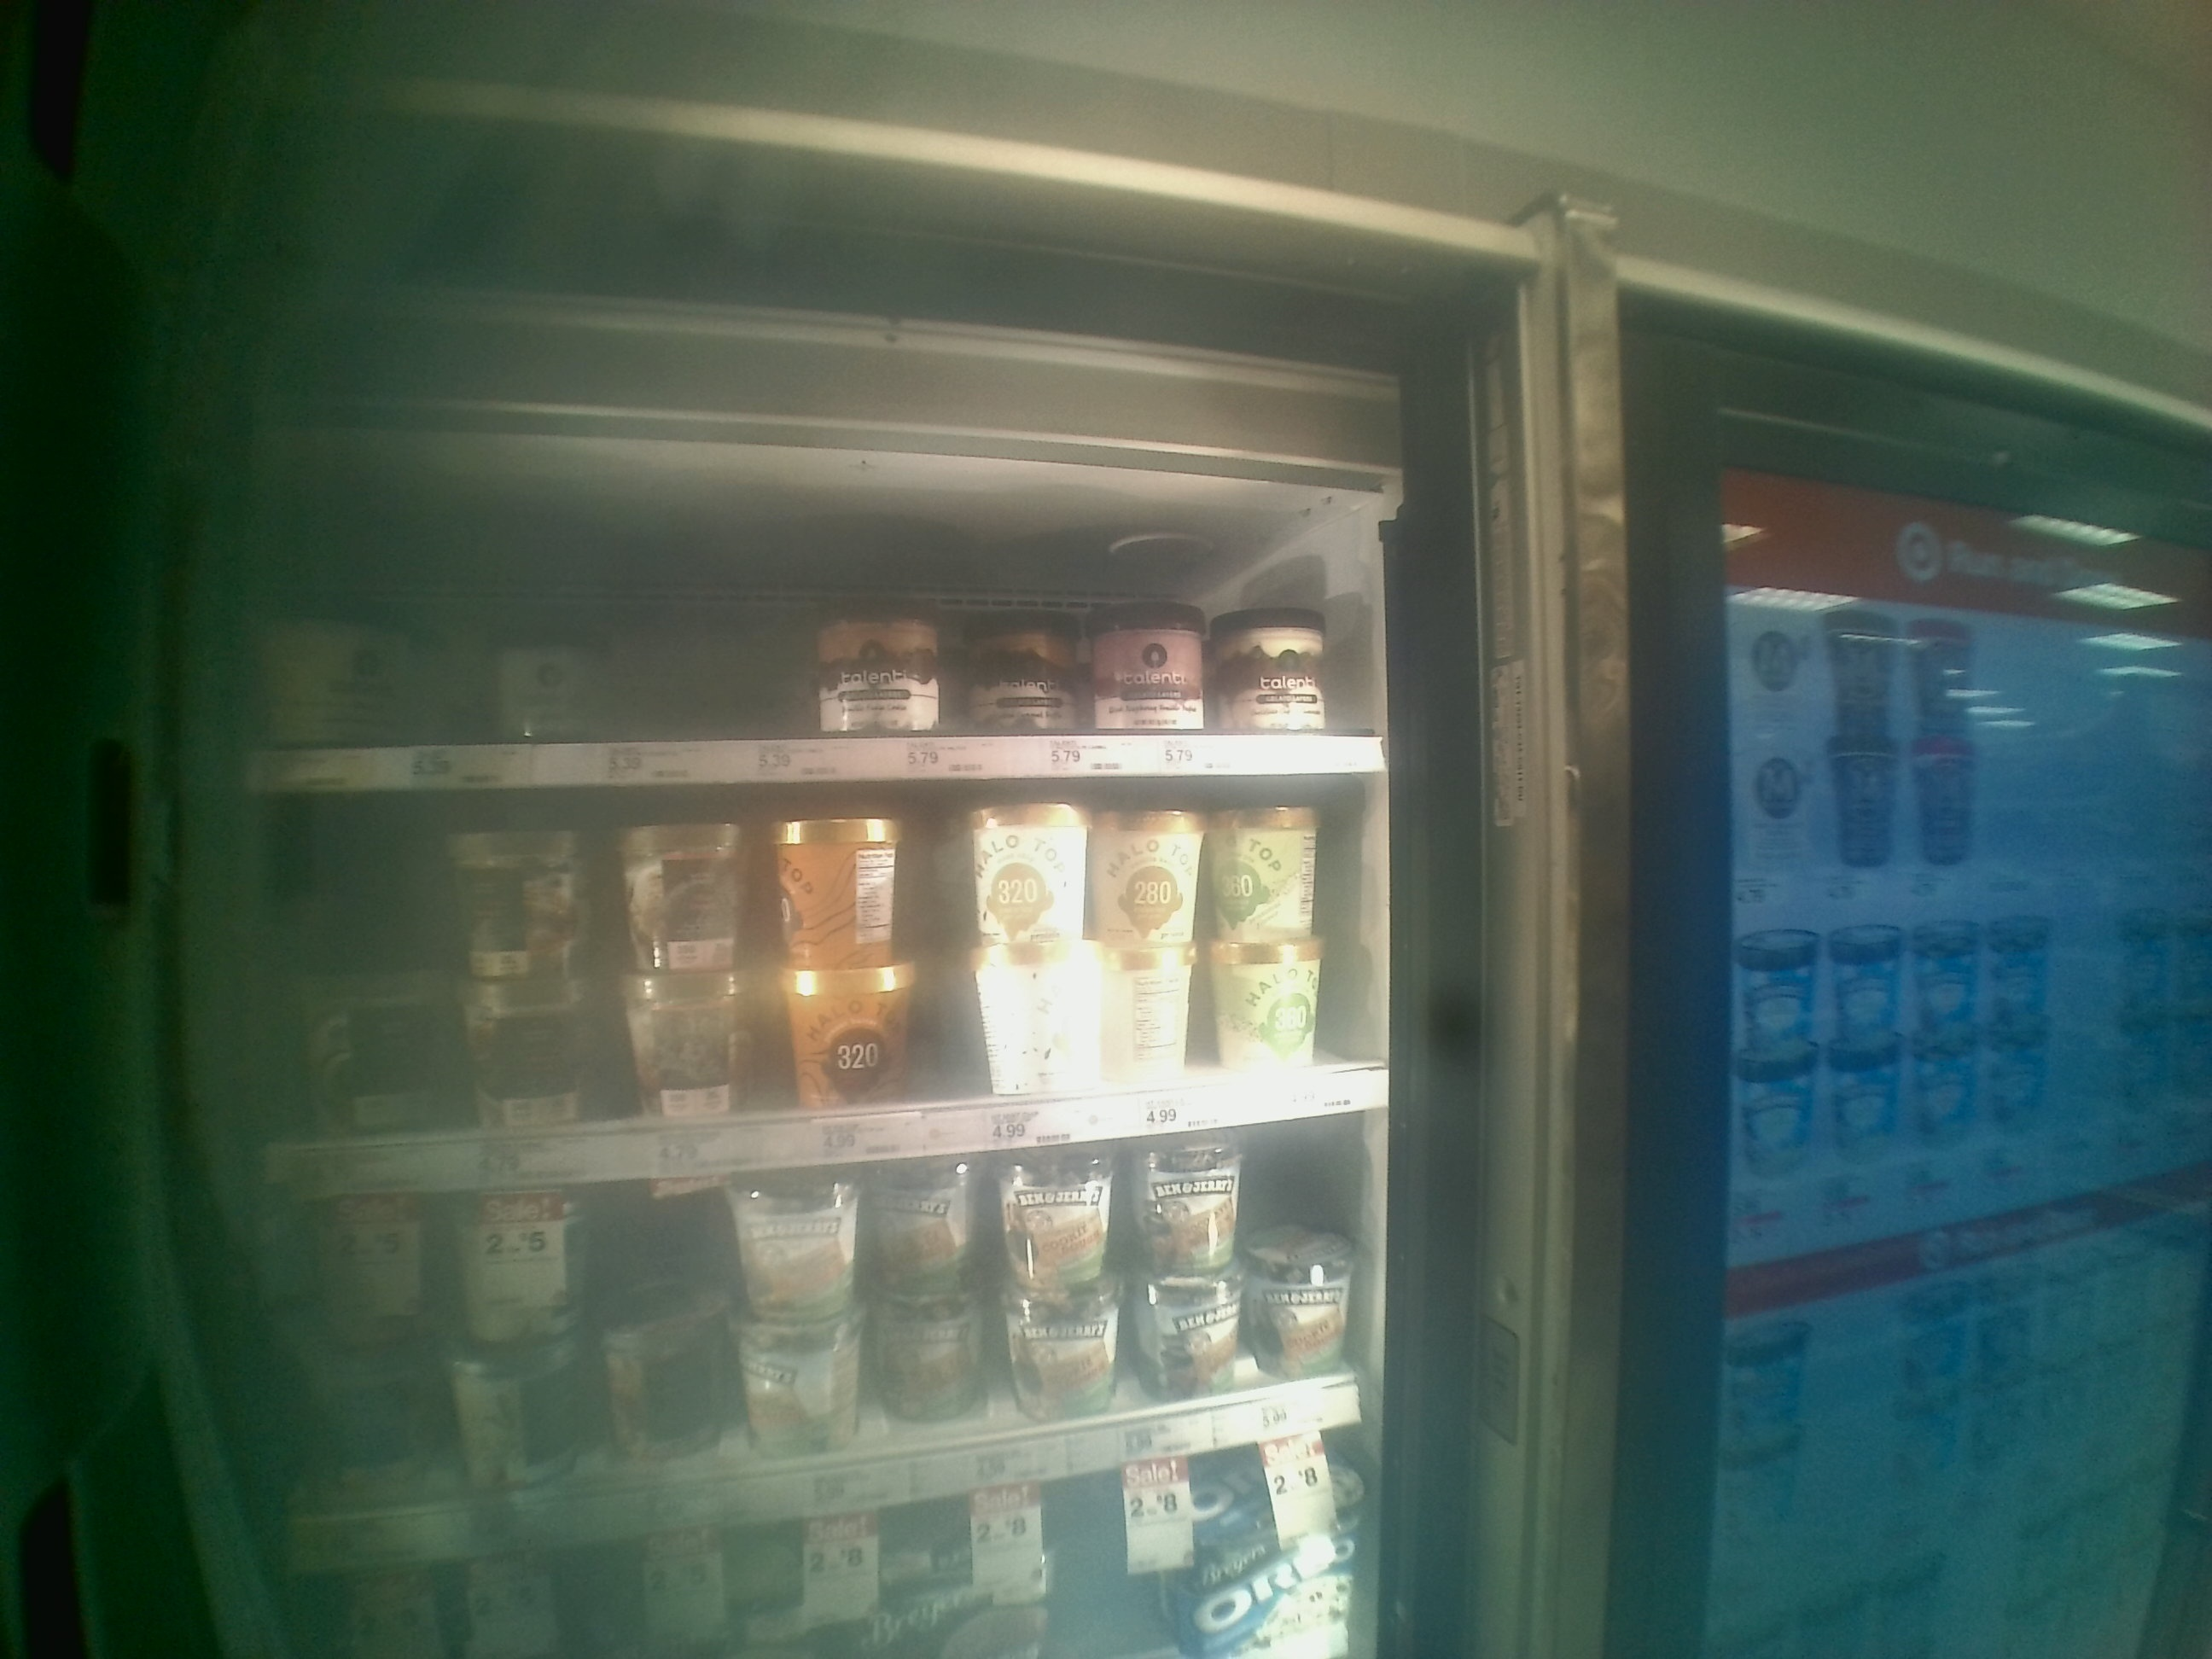shelf: (261, 1105, 1388, 1582), (254, 784, 1395, 1190), (244, 465, 1399, 779)
